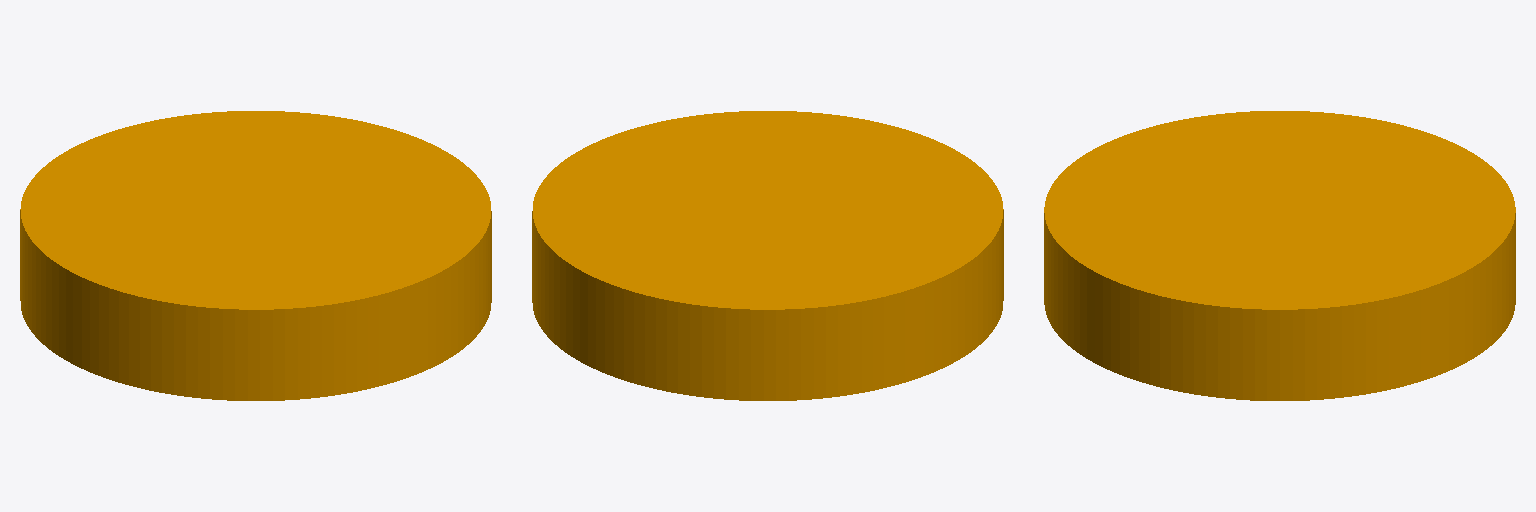
URDF robot description (tube):
<?xml version="1.0" ?>

<robot name="tube">

    <!-- <link name="world1">
    </link>
    <link name="world2">
    </link>

    <joint name="world1_to_down" type="prismatic">
        <parent link="world1"/>
        <child link="down"/>
        <origin rpy="0.0 0.0 0.0" xyz="0.0 0.0 0.0"/>
        <axis xyz="0 1 0"/>
        <dynamics damping="0.0" friction="0.0"/>
        <limit lower="0.0" upper="0.1" velocity="1e9" effort="1e9"/>
    </joint>

    <joint name="up_to_world2" type="prismatic">
        <parent link="up"/>
        <child link="world2"/>
        <origin rpy="0.0 0.0 0.0" xyz="0.0 0.0 0.0"/>
        <axis xyz="0 1 0"/>
        <dynamics damping="0.0" friction="0.0"/>
        <limit lower="0.0" upper="0.1" velocity="1e9" effort="1e9"/>
    </joint> -->

    <link name="up">    
	    <visual>
            <origin rpy="0.0 0.0 0.0" xyz="0.0 0.0 0.0"/>
            <geometry>
                <mesh filename="../../meshes/tubes/47x54/up.obj" scale="0.001 0.001 0.001"/>
            </geometry>
        </visual>
        <collision>
            <origin rpy="0.0 0.0 0.0" xyz="0.0 0.0 0.0"/>
            <geometry>
                <mesh filename="../../meshes/tubes/47x54/up.obj" scale="0.001 0.001 0.001"/>
                <scale value="0.001"/>
            </geometry>
        </collision>
	</link>

    <joint name = "up_to_tube" type = "fixed">
		<origin xyz = "0.0 0.0 0.0" rpy = "0 0 0"/>
		<parent link = "up"/>
		<child link = "tube"/>
	</joint>

    <link name="tube">
		<fem>
			<origin rpy="0 0 0" xyz="0 0 0"/>
			<density value="1000.0"/>
			<youngs value="500000000.0"/>
			<poissons value="0.31645428"/>
			<damping value="0.0"/>
			<attachDistance value="1e-5"/>
			<tetmesh filename="../../meshes/tubes/47x54/sparse/tube.tet"/>
			<scale value="0.001"/>
		</fem>
	</link>

    <joint name = "tube_to_down" type = "fixed">
		<origin xyz = "0.0 0.0 1.0" rpy = "0 0 0"/>
		<parent link = "tube"/>
		<child link = "down"/>
	</joint>

    <link name="down">    
	    <visual>
            <origin rpy="0.0 0.0 0.0" xyz="0.0 0.0 0.0"/>
            <geometry>
                <mesh filename="../../meshes/tubes/47x54/down.obj" scale="0.001 0.001 0.001"/>
            </geometry>
        </visual>
        <collision>
            <origin rpy="0.0 0.0 0.0" xyz="0.0 0.0 0.0"/>
            <geometry>
                <mesh filename="../../meshes/tubes/47x54/down.obj" scale="0.001 0.001 0.001"/>
            </geometry>
        </collision>
	</link>

</robot>

--- What the picture shows (computed from the rendered views, not written in the file) ---
Views: 3 orthographic renders of the robot side by side, from view 1: azimuth 30°, elevation 25°; view 2: azimuth 150°, elevation 25°; view 3: azimuth 270°, elevation 25°.
Model tube with 3 links and 2 joints (2 fixed), rooted at up, posed all joints at 0.
Links seen in each view (by area): view 1: up; view 2: up; view 3: up.
Link boxes in pixels (x1,y1,x2,y2): up: (20, 111, 491, 400); up: (532, 111, 1003, 400); up: (1044, 111, 1515, 400).
Bounding box of the posed robot: 0.14 × 0.14 × 0.03 m (x, y, z).
1 mesh visuals loaded from 2 distinct referenced files (1 OBJ); not drawn: 1 (reference not matched to a file when rendering).